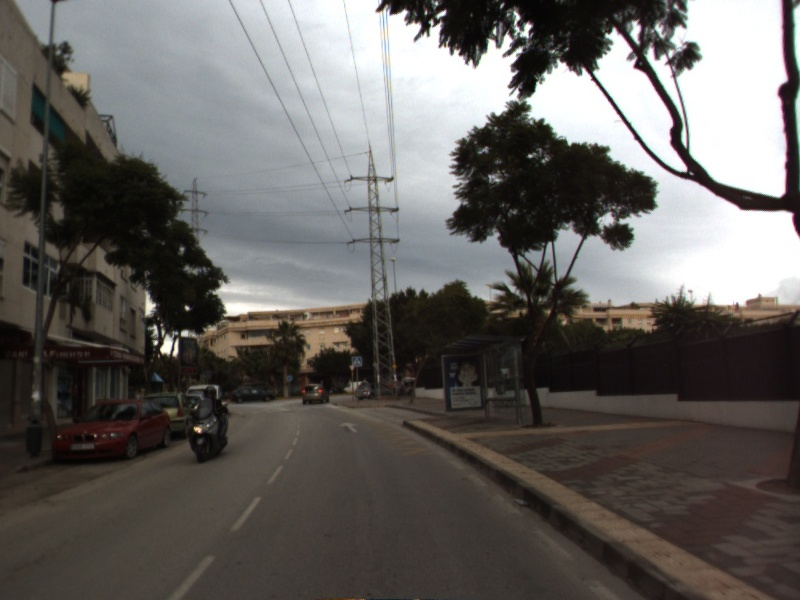STRAIGHT: (337, 420, 362, 434)
